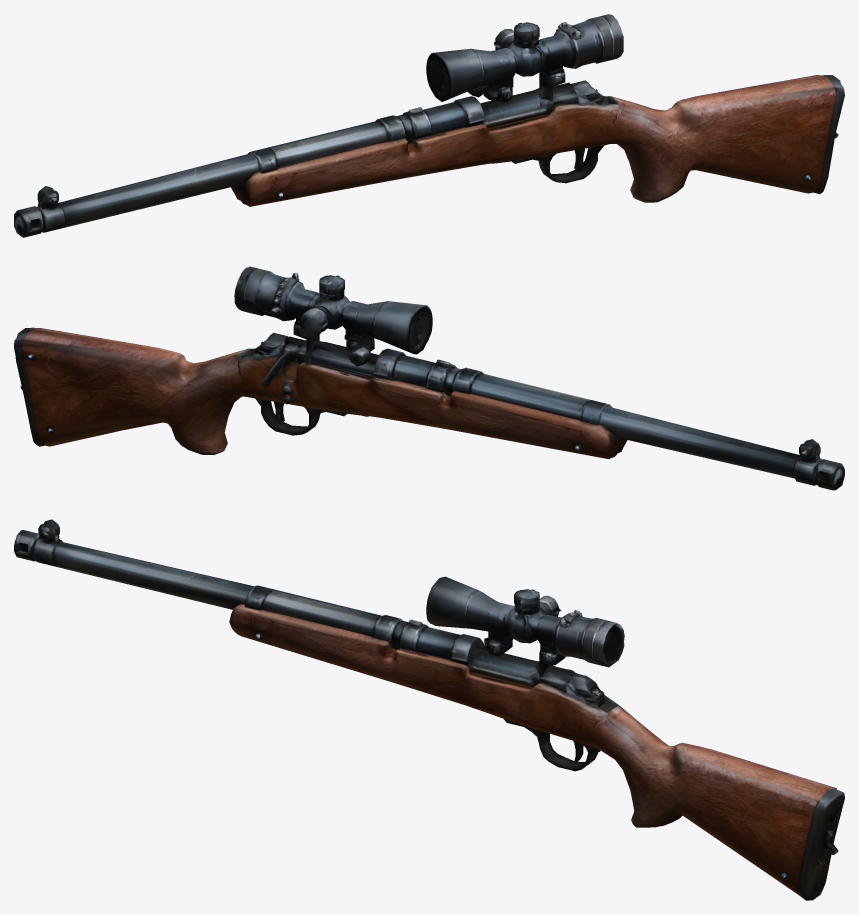
The model's file is M1903A4_Sniper_Rifle.glb.
The picture shows the model from 3 angles, top to bottom: view 1: azimuth 30°, elevation 25°; view 2: azimuth 150°, elevation 25°; view 3: azimuth 330°, elevation 25°; orthographic projection.
Parts seen in each view (by area): view 1: tripo_node_2b894873-37c9-4ac5-bbaf-003eadffd5df; view 2: tripo_node_2b894873-37c9-4ac5-bbaf-003eadffd5df; view 3: tripo_node_2b894873-37c9-4ac5-bbaf-003eadffd5df.
Boxes of the visible parts, x1,y1,x2,y2 form: tripo_node_2b894873-37c9-4ac5-bbaf-003eadffd5df: [14, 14, 844, 237]; tripo_node_2b894873-37c9-4ac5-bbaf-003eadffd5df: [14, 266, 844, 490]; tripo_node_2b894873-37c9-4ac5-bbaf-003eadffd5df: [14, 519, 844, 900].
Bounding box in the file's own units: 0.998 × 0.2754 × 0.0762.
1 material, 1 textured.
